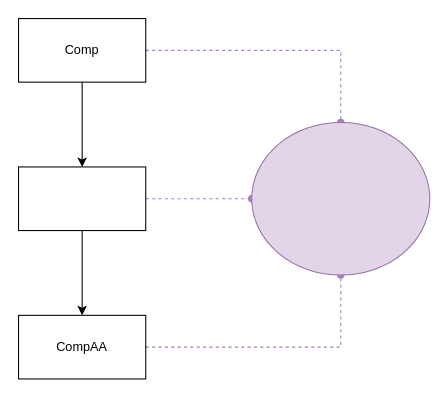
Some shapes in this 448 by 397 pixel diagram are drawn without their labels. The centre of each missing label's shape, as x and y in pixels:
borderRadius: "20px", marginRight: "20px", marginTop: "20px", color: 'white',: (x=340, y=198)
CompA: (x=81, y=198)
